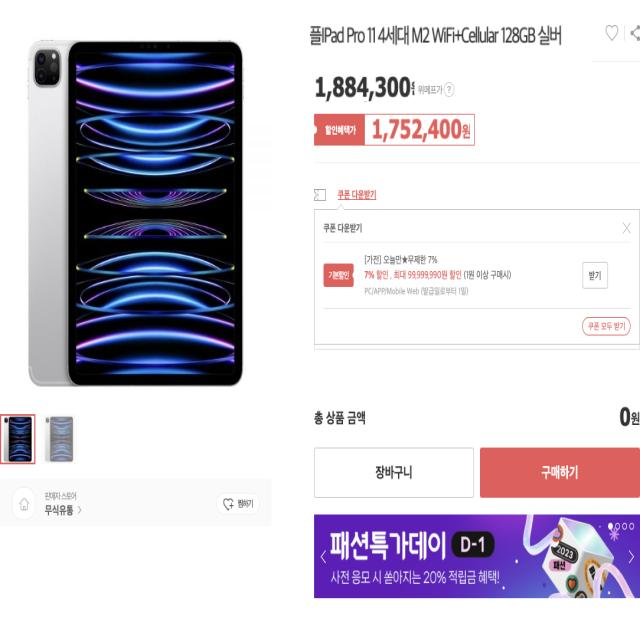product_discount_price: (369, 118, 470, 143)
product_name: (310, 15, 592, 63)
product_original_price: (310, 76, 414, 102)
